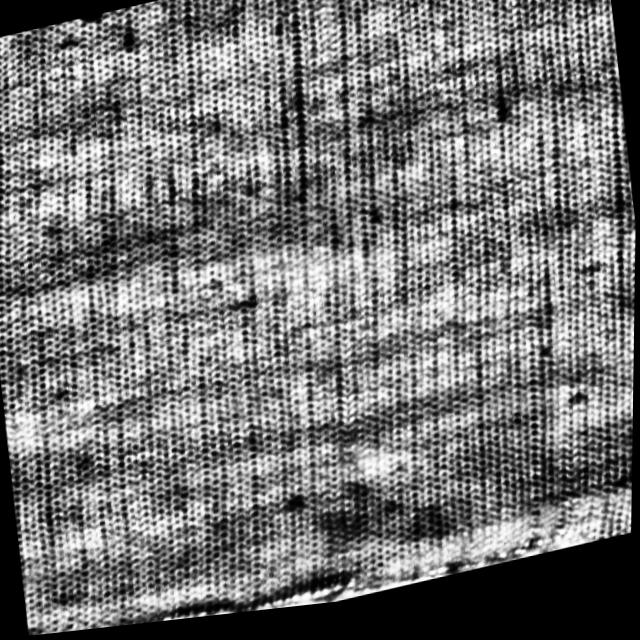Stitch: (84, 518, 607, 632)
